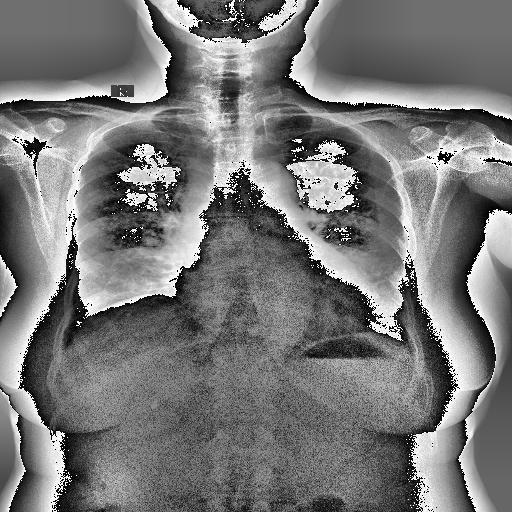0- Aortic enlargement: (244, 163, 302, 218), (237, 161, 300, 211)
13- Pulmonary fibrosis: (110, 251, 200, 293)
3- Cardiomegaly: (162, 250, 382, 326), (173, 272, 382, 348), (173, 276, 388, 332)
5- ILD: (88, 150, 158, 299), (326, 179, 392, 273)
7- Lung Opacity: (110, 251, 200, 293)
9- Other lesion: (88, 150, 158, 299), (326, 179, 392, 273)
